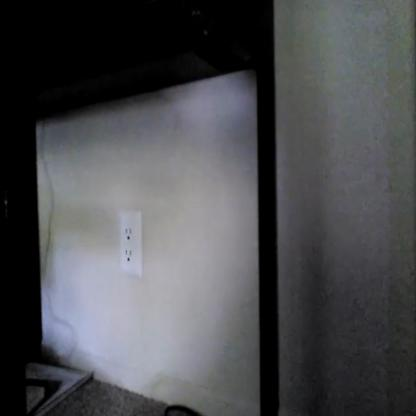OUTLET: (119, 208, 143, 276)
